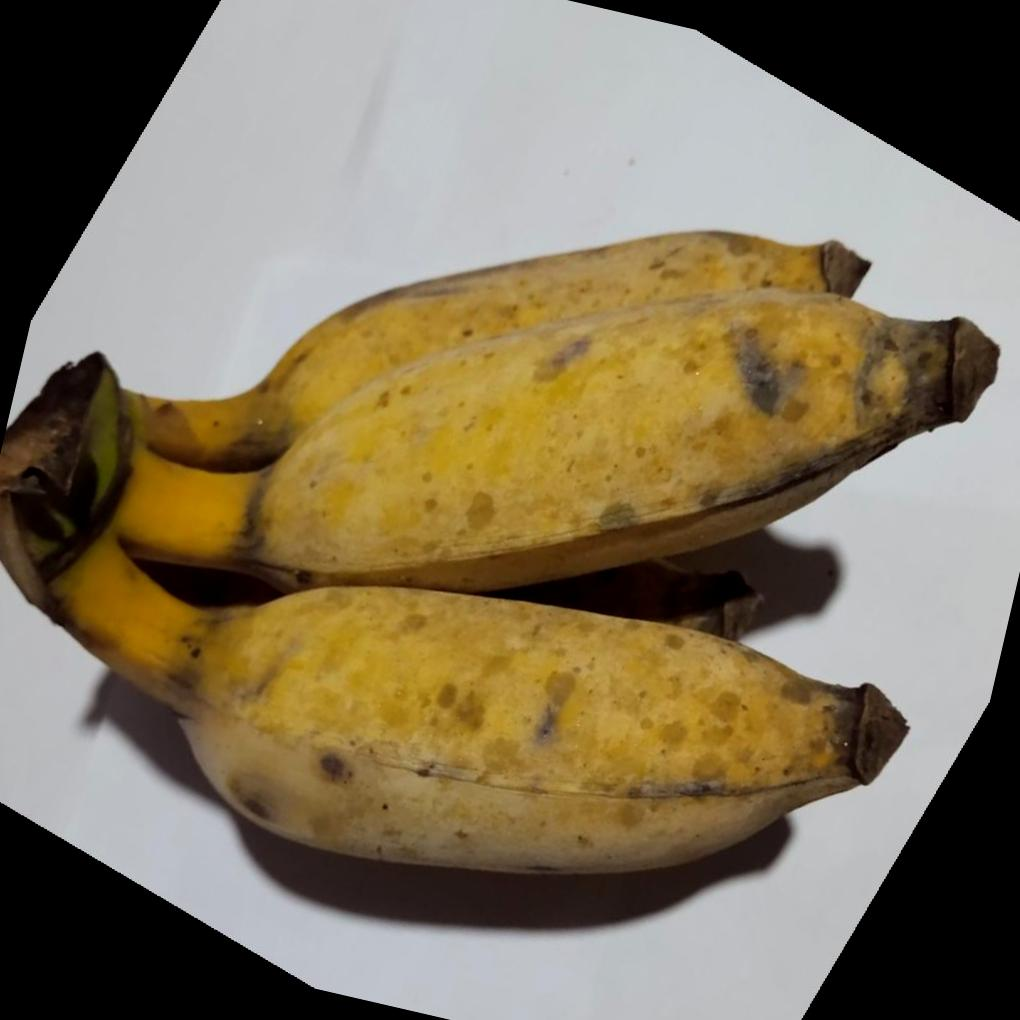Banana Ripe: (34, 43, 1020, 713), (0, 484, 976, 1020)
